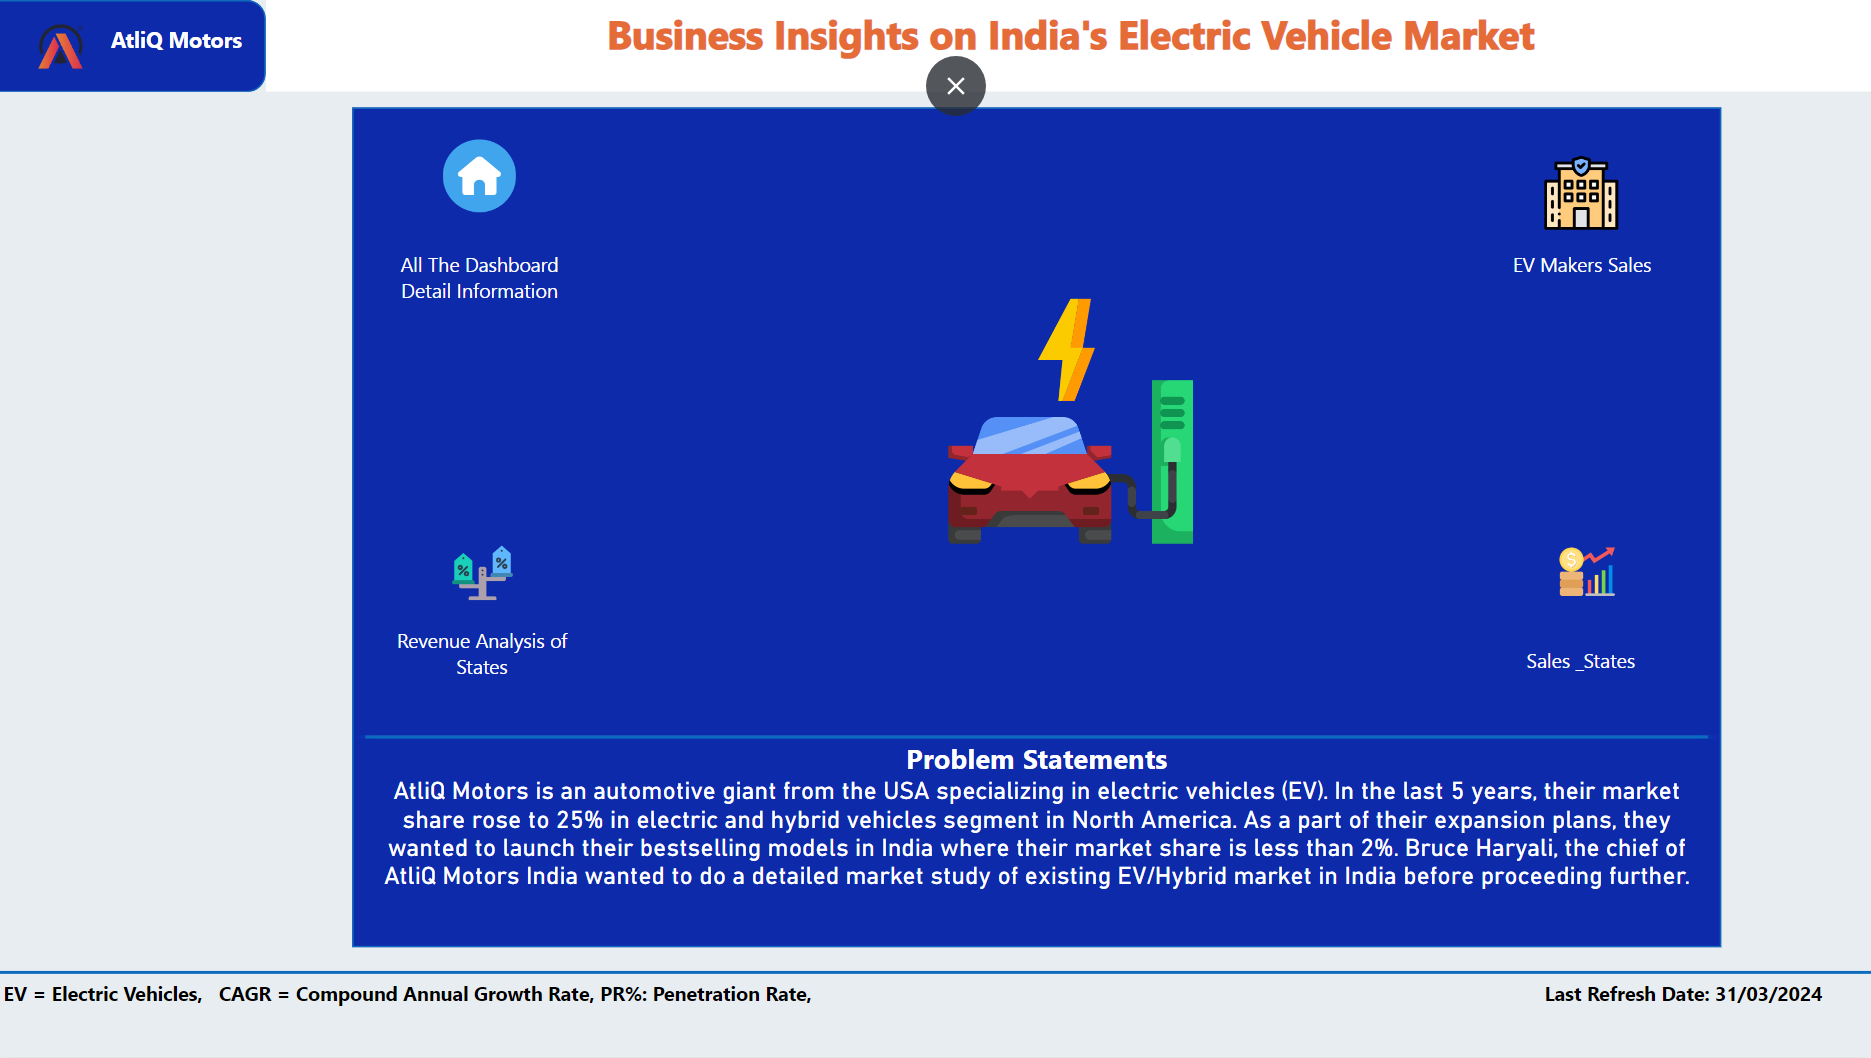

What the dashboard file says about the page in this screenshot:
{"tool":"powerbi","page":{"name":" Home","canvas":[1280,720],"ordinal":0},"visuals":[{"type":"shape","box":[243,73.3,932.6,572.1],"z":0},{"type":"shape","box":[0,0,183.7,62.8],"z":1000},{"type":"image","box":[20.6,11,48,41.2],"z":2000},{"type":"textbox","box":[58.1,11.6,125.6,40.7],"z":3000},{"type":"textbox","box":[183.7,0,1096.5,62.8],"z":4000},{"type":"image","box":[300,89.5,59.3,60.5],"z":5000},{"type":"image","box":[1050,359.3,68.6,60.5],"z":6000},{"type":"image","box":[1050,101.2,60.5,60.5],"z":8000},{"type":"image","box":[301.2,360.5,60.5,60.5],"z":9000},{"type":"textbox","box":[265.1,166.3,129.1,52.3],"z":10000},{"type":"textbox","box":[1016.3,166.3,129.1,91.9],"z":11000},{"type":"textbox","box":[1015.1,436,129.1,62.8],"z":12000},{"type":"textbox","box":[266.3,422.1,129.1,70.9],"z":13000},{"type":"shape","box":[0,605.8,1280.2,114],"z":15000},{"type":"image","box":[555.8,193,352.3,187.2],"z":16000},{"type":"textbox","box":[243,498.8,932.6,146.5],"z":17000},{"type":"shape","box":[243,493,932.6,10.5],"z":18000},{"type":"textbox","box":[0,662.8,584.9,57],"z":19000},{"type":"textbox","box":[1050,662.8,230.2,57],"z":20000}]}

Visuals, with their boxes on the page's 1280x720 design canvas (x1, y1, x2, y2). These are canvas units, not pixel positions in the 1871x1058 screenshot, which may show the page scaled, cropped or inside an application window:
shape: select_region(243, 73, 1176, 645)
shape: select_region(0, 0, 184, 63)
image: select_region(21, 11, 69, 52)
textbox: select_region(58, 12, 184, 52)
textbox: select_region(184, 0, 1280, 63)
image: select_region(300, 90, 359, 150)
image: select_region(1050, 359, 1119, 420)
image: select_region(1050, 101, 1110, 162)
image: select_region(301, 360, 362, 421)
textbox: select_region(265, 166, 394, 219)
textbox: select_region(1016, 166, 1145, 258)
textbox: select_region(1015, 436, 1144, 499)
textbox: select_region(266, 422, 395, 493)
shape: select_region(0, 606, 1280, 720)
image: select_region(556, 193, 908, 380)
textbox: select_region(243, 499, 1176, 645)
shape: select_region(243, 493, 1176, 504)
textbox: select_region(0, 663, 585, 720)
textbox: select_region(1050, 663, 1280, 720)
